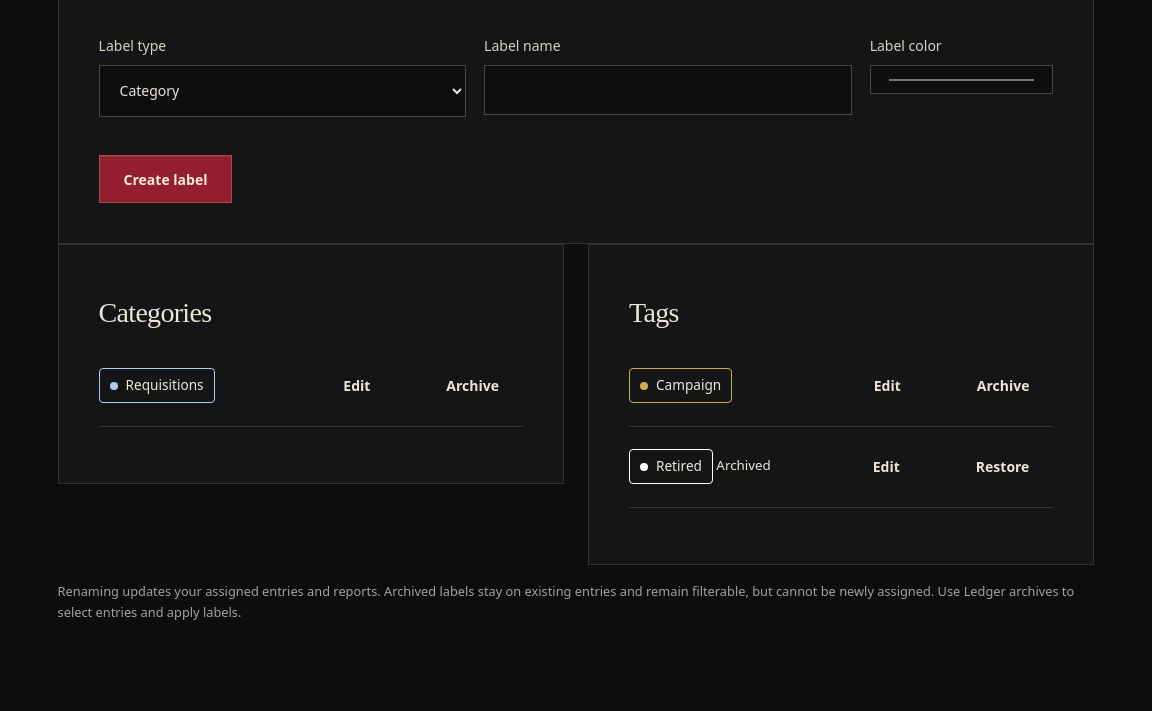
Test: renaming preserves the stable label ID
This screenshot has width=1152, height=711.
(page scrolled)
Step 1. Click the button with aria-label "Edit Requisitions" → (357, 386), box [319,362,394,410]
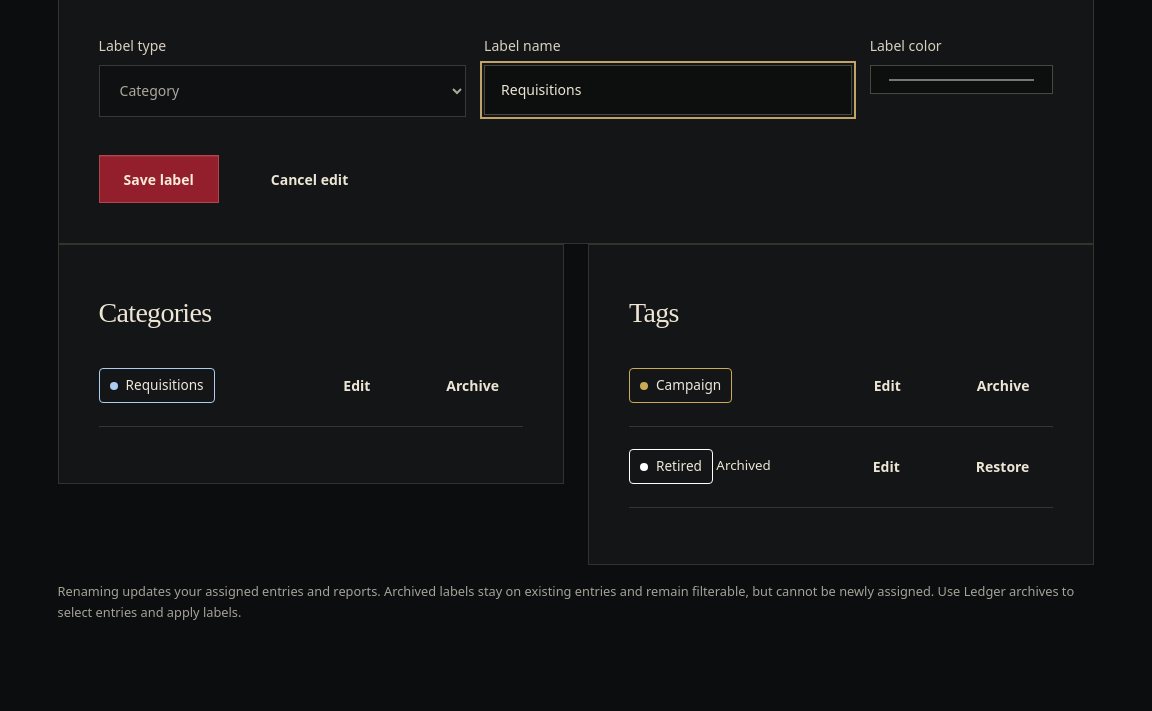
Step 2. Replace the text in the field labelled "Label name" with "Supply lines" → (668, 90), box [484,65,852,115]
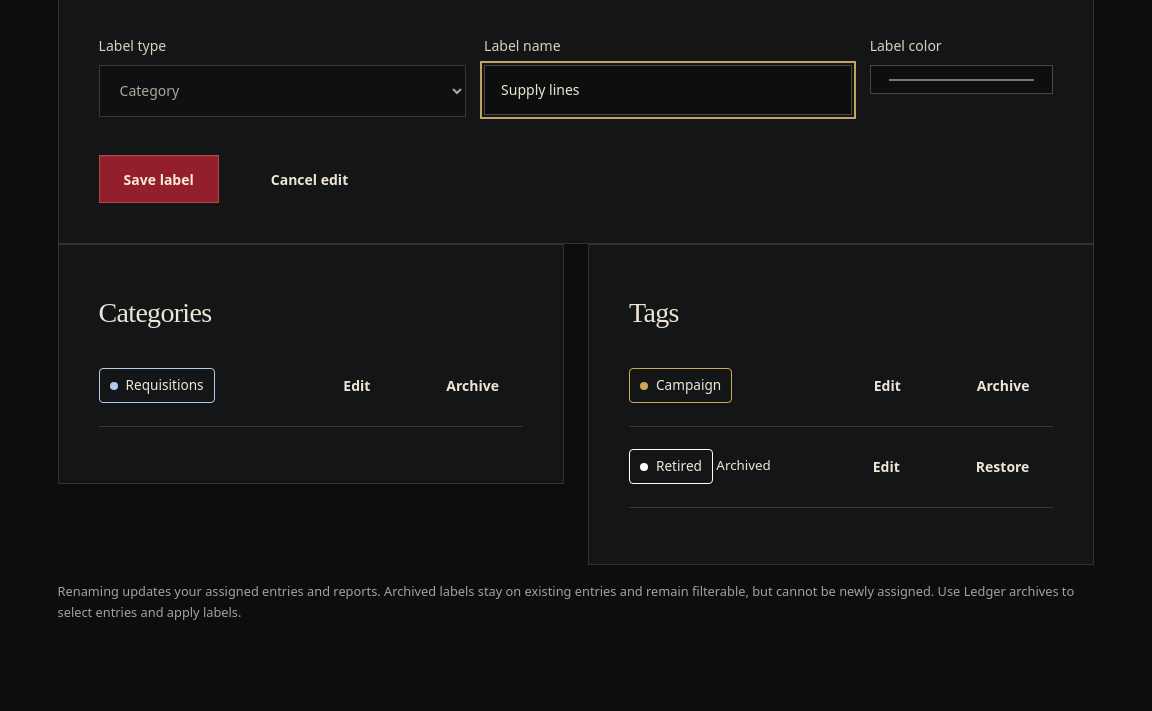
Step 3. Click the button "Save label" → (159, 179), box [99,155,219,203]
(page scrolled)
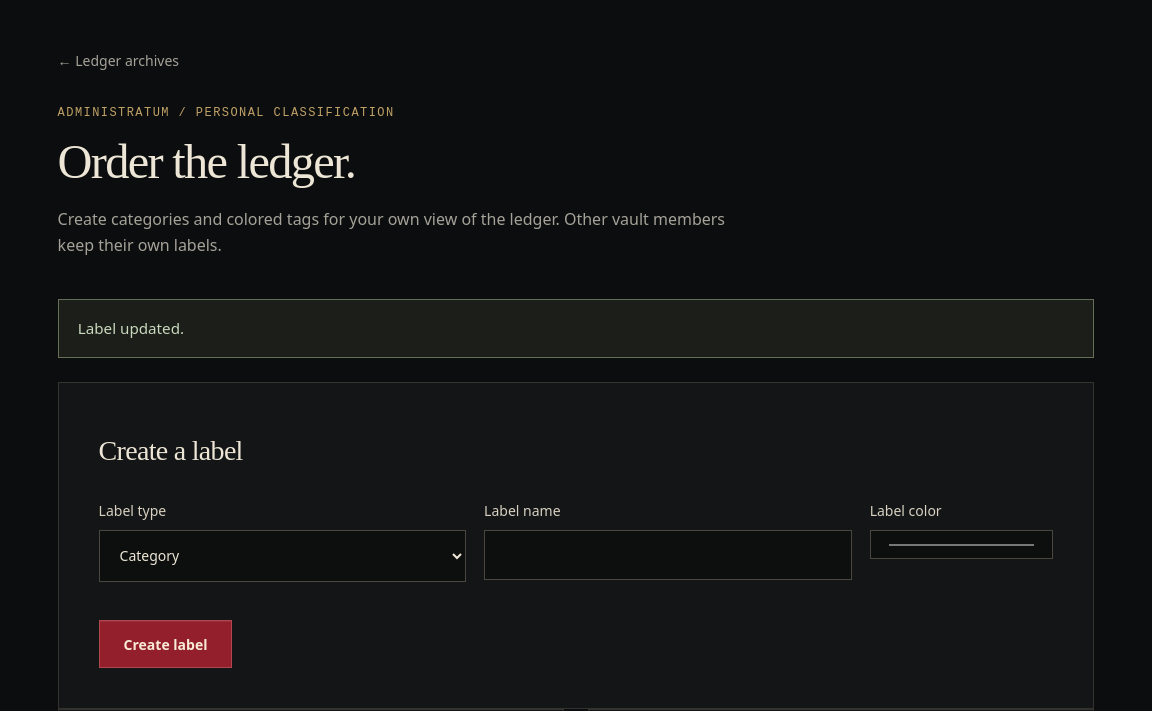
Check: the text "Label updated." is shown, box [58,298,1094,358]
